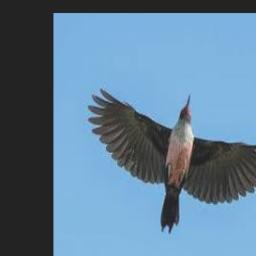Woodpecker: (88, 89, 256, 233)
